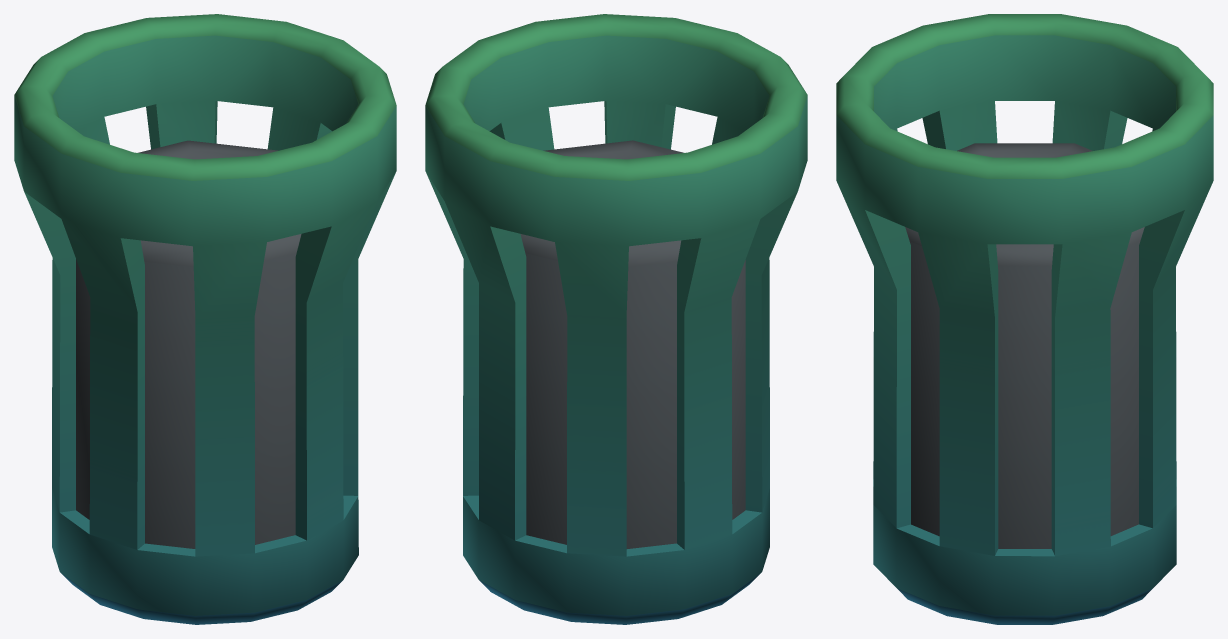
File: street_bin.glb
3 views of the same model, side by side, from view 1: azimuth 30°, elevation 25°; view 2: azimuth 150°, elevation 25°; view 3: azimuth 270°, elevation 25° (orthographic).
Visible parts, largest first — view 1: street_bin; view 2: street_bin; view 3: street_bin.
Boxes of the visible parts, left/top/right/bottom form: street_bin: left=14, top=14, right=396, bottom=624; street_bin: left=425, top=14, right=807, bottom=624; street_bin: left=836, top=14, right=1213, bottom=624.
Bounding box in the file's own units: 0.56 × 0.78 × 0.56.
Materials: 1 (1 with a texture image).
